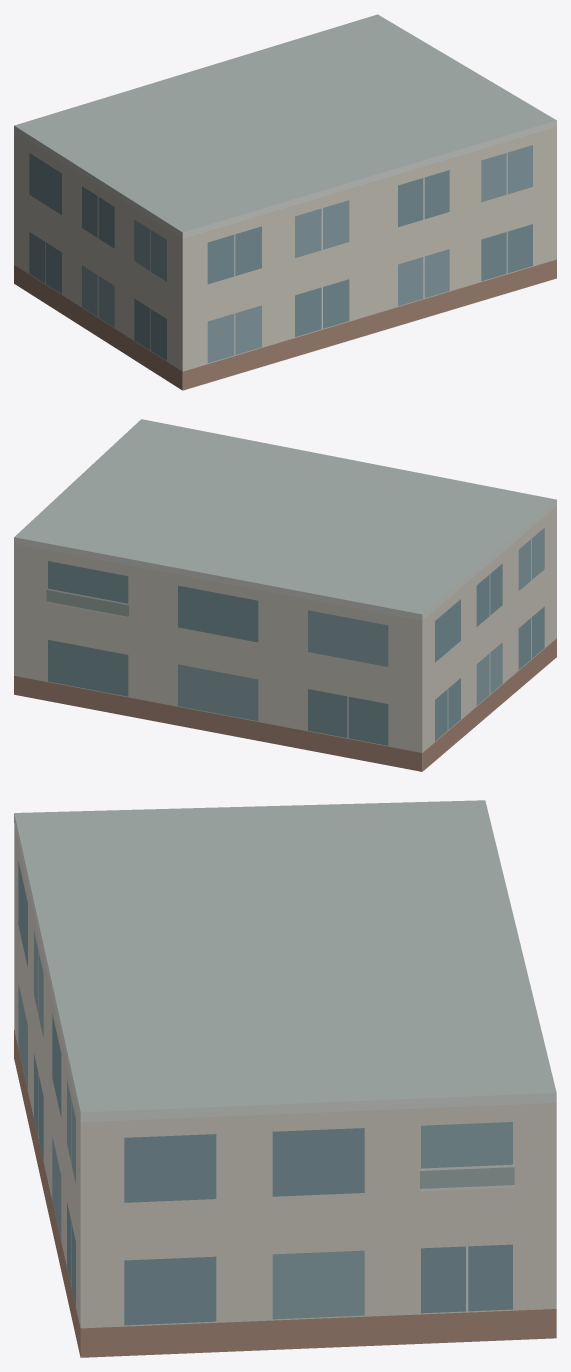
Rendered from survey-upis-32675455.glb.
The picture shows the model from 3 angles, top to bottom: view 1: azimuth 30°, elevation 25°; view 2: azimuth 150°, elevation 25°; view 3: azimuth 270°, elevation 25°; orthographic projection. The views are drawn at different scales.
Parts seen in each view (by area): view 1: survey-upis-32675455.tmp; view 2: survey-upis-32675455.tmp; view 3: survey-upis-32675455.tmp.
Part boxes in pixels (x1,y1,x2,y2): survey-upis-32675455.tmp: (14,14,556,390); survey-upis-32675455.tmp: (14,419,556,771); survey-upis-32675455.tmp: (14,800,556,1357).
Size of the model in its own units: 16.67 by 6.1 by 12.24.
